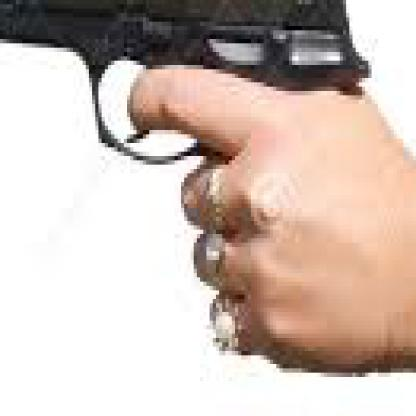gun: (0, 0, 388, 399)
